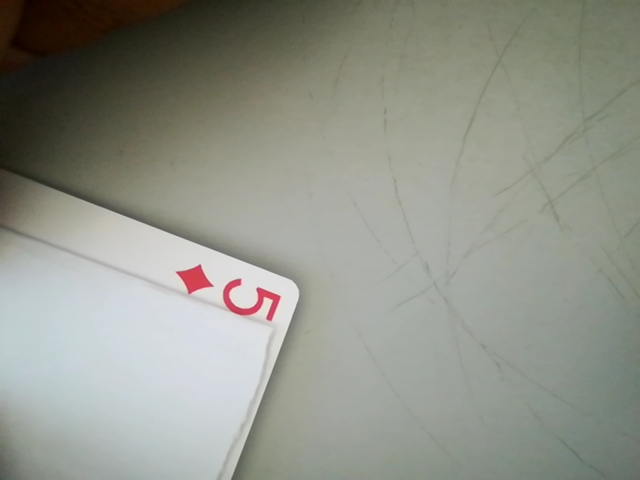fk 5: (158, 260, 299, 329)
